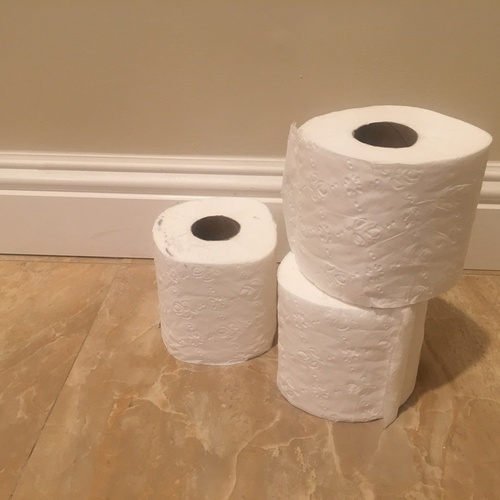roll: (284, 102, 491, 312), (275, 246, 426, 422), (155, 197, 277, 363)
